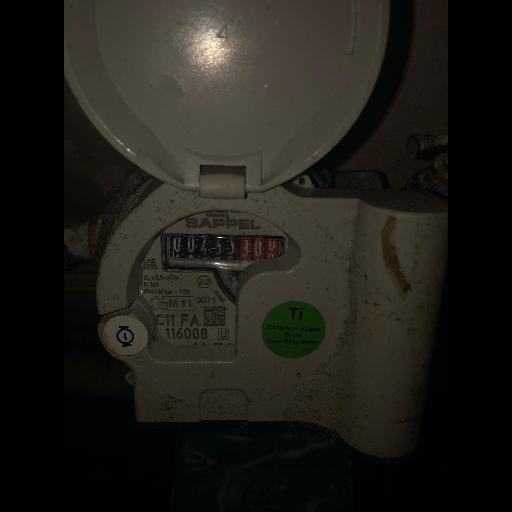0: (252, 237, 265, 262), (172, 235, 184, 259), (185, 235, 197, 259)
3: (239, 237, 252, 261)
4: (199, 236, 211, 261)
5: (213, 236, 226, 261), (226, 236, 238, 261)
8: (266, 237, 280, 259)
border_water_meter_number: (160, 234, 286, 271)
